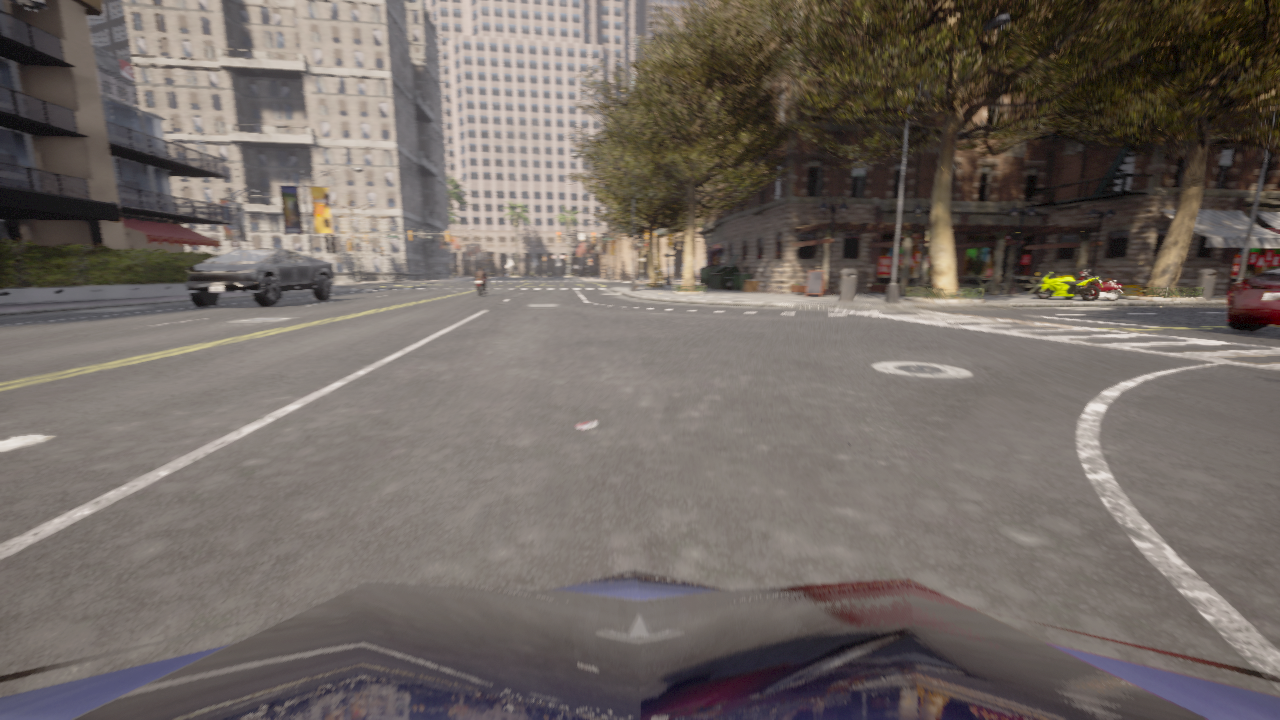cyclist: (0, 569, 1279, 719), (185, 249, 334, 307), (1227, 267, 1279, 331), (1035, 271, 1102, 300), (1063, 269, 1123, 300), (475, 275, 486, 295)
